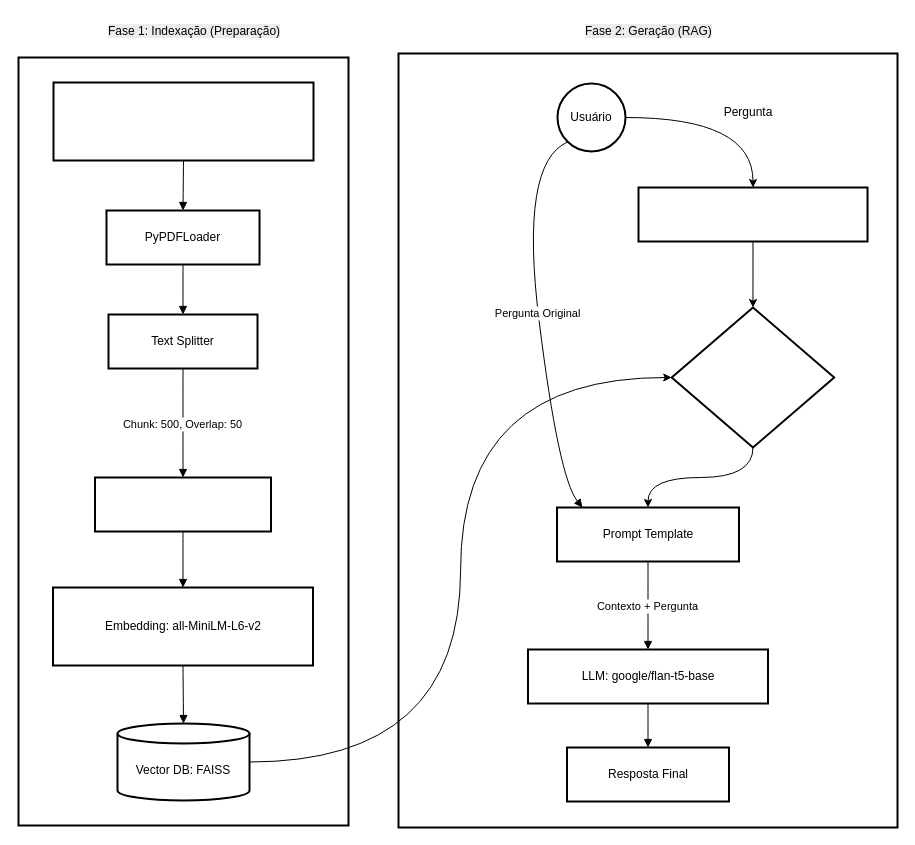
The diagram is 915 pixels wide and 845 high, and some of its shapes have lost their labels. Here are the shapes that lost their labels. From the top down, the centre of each, then its label:
At (183,121): "PDF: Attention Is All You Need".
At (752,214): "Embedding da Pergunta".
At (752,377): "Busca Semântica".
At (183,504): "Chunks de Texto".
